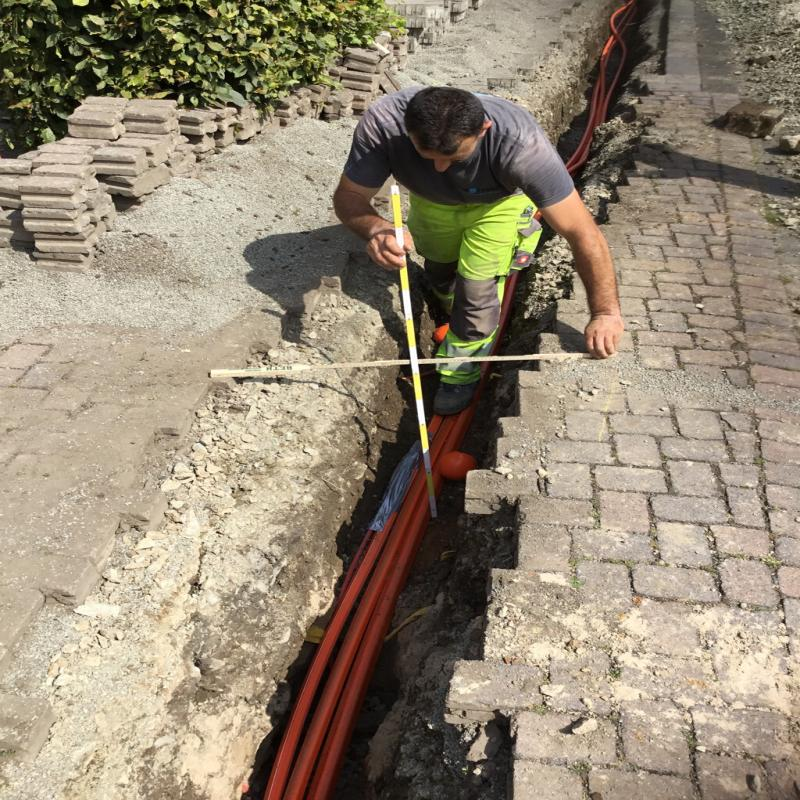Kugelmarker: (439, 452, 477, 479)
Orang-Speednetrohrchen: (266, 409, 471, 800), (565, 92, 609, 170)
